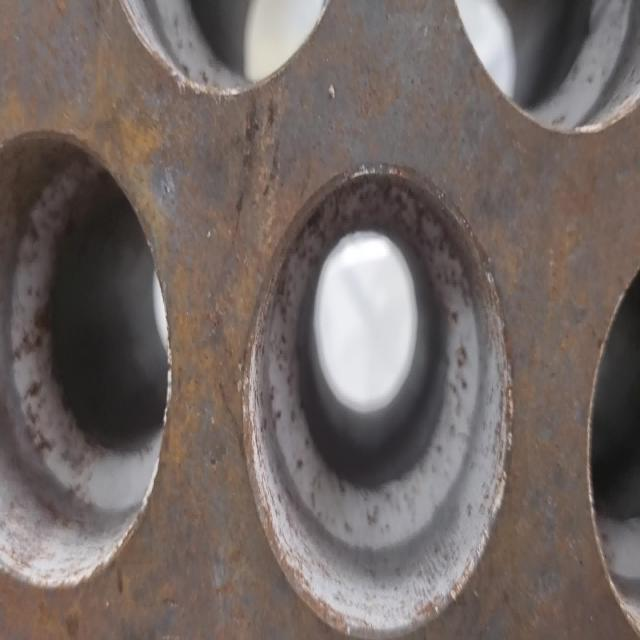Hole: (240, 160, 513, 636), (1, 126, 173, 598)
